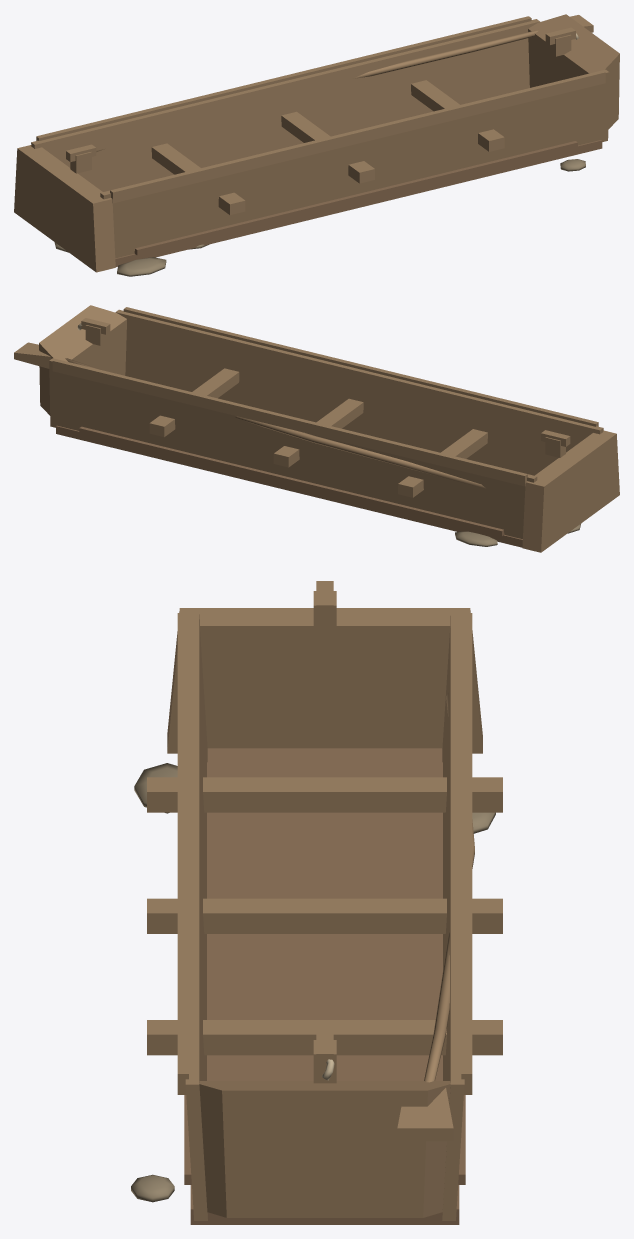
The model's file is ferry_boat.glb.
3 views of the same model, one above another, from view 1: azimuth 30°, elevation 25°; view 2: azimuth 150°, elevation 25°; view 3: azimuth 270°, elevation 25° (orthographic). The views are drawn at different scales.
Parts seen in each view (by area): view 1: Boat_Hull, Boat_Hardware, Boat_Mud; view 2: Boat_Hull, Boat_Hardware, Boat_Mud; view 3: Boat_Hull, Boat_Hardware, Boat_Mud.
Boxes of the visible parts, x1,y1,x2,y2 form: Boat_Hull: [14, 14, 619, 272]; Boat_Hardware: [66, 15, 593, 173]; Boat_Mud: [54, 159, 585, 276]; Boat_Hull: [39, 305, 619, 552]; Boat_Hardware: [14, 318, 570, 488]; Boat_Mud: [455, 524, 580, 546]; Boat_Hull: [147, 608, 502, 1224]; Boat_Hardware: [313, 581, 474, 1141]; Boat_Mud: [131, 763, 495, 1202].
Size of the model in its own units: 4.3 by 0.698 by 1.3.
